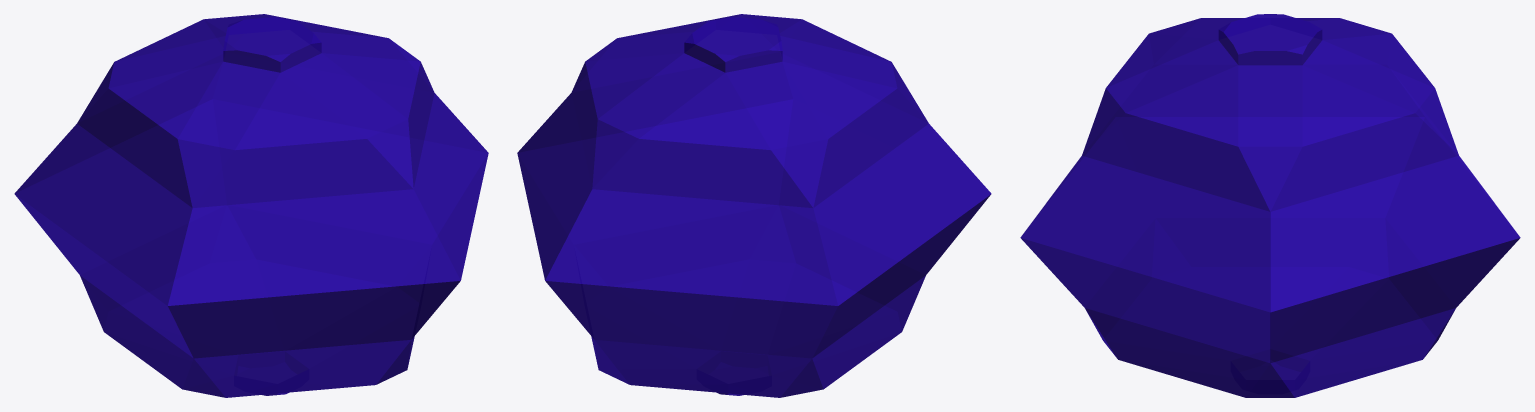
File: GemD.fbx
The picture shows the model from 3 angles, left to right: view 1: azimuth 30°, elevation 25°; view 2: azimuth 150°, elevation 25°; view 3: azimuth 270°, elevation 25°; orthographic projection.
Parts seen in each view (by area): view 1: GemD; view 2: GemD; view 3: GemD.
Boxes of the visible parts, x1,y1,x2,y2 form: GemD: [14, 14, 488, 397]; GemD: [517, 14, 991, 397]; GemD: [1020, 14, 1520, 397].
Size of the model in its own units: 7.43 by 6.15 by 8.03.
